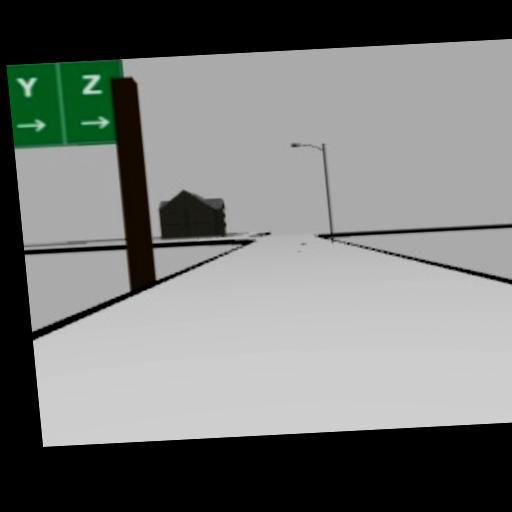Right: (77, 114, 111, 130), (13, 117, 47, 133)
Y: (14, 76, 39, 98)
Z: (79, 73, 102, 95)
